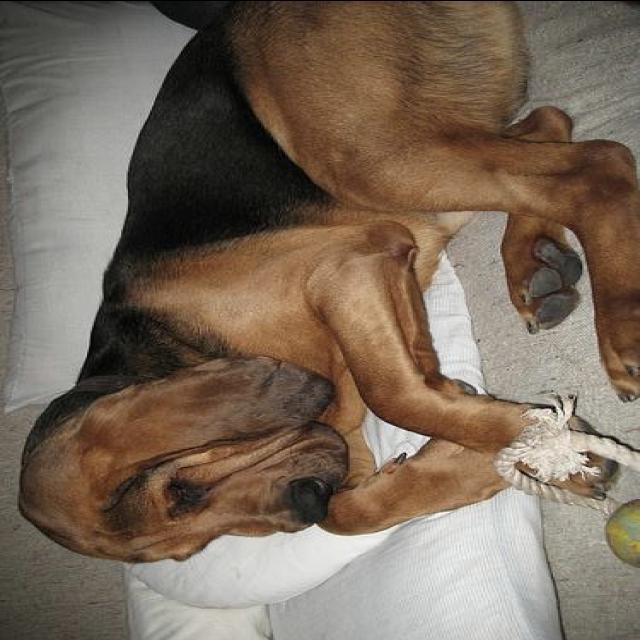bloodhound: (16, 1, 638, 563)
